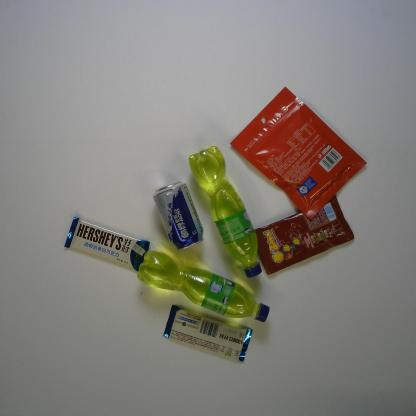Alcohol: (151, 179, 205, 253)
Candy: (245, 194, 358, 278)
Chocolate: (161, 304, 253, 363), (62, 215, 150, 272)
Dried Fruit: (228, 85, 368, 224)
Drink: (188, 145, 264, 280), (136, 249, 271, 323)
